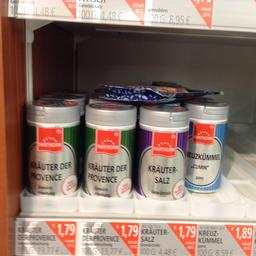spices: (25, 97, 79, 194), (84, 100, 134, 196), (138, 102, 188, 196), (182, 103, 228, 193)
